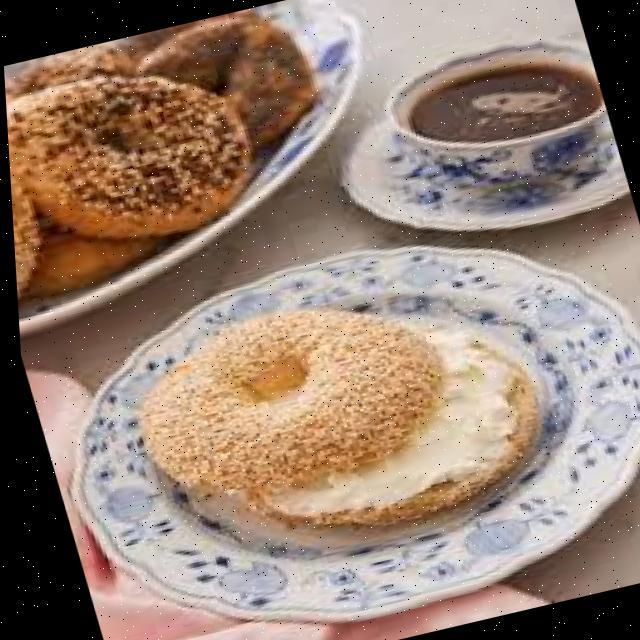Bagel: (141, 308, 437, 497), (5, 76, 250, 238), (135, 19, 314, 146), (8, 178, 38, 291)
